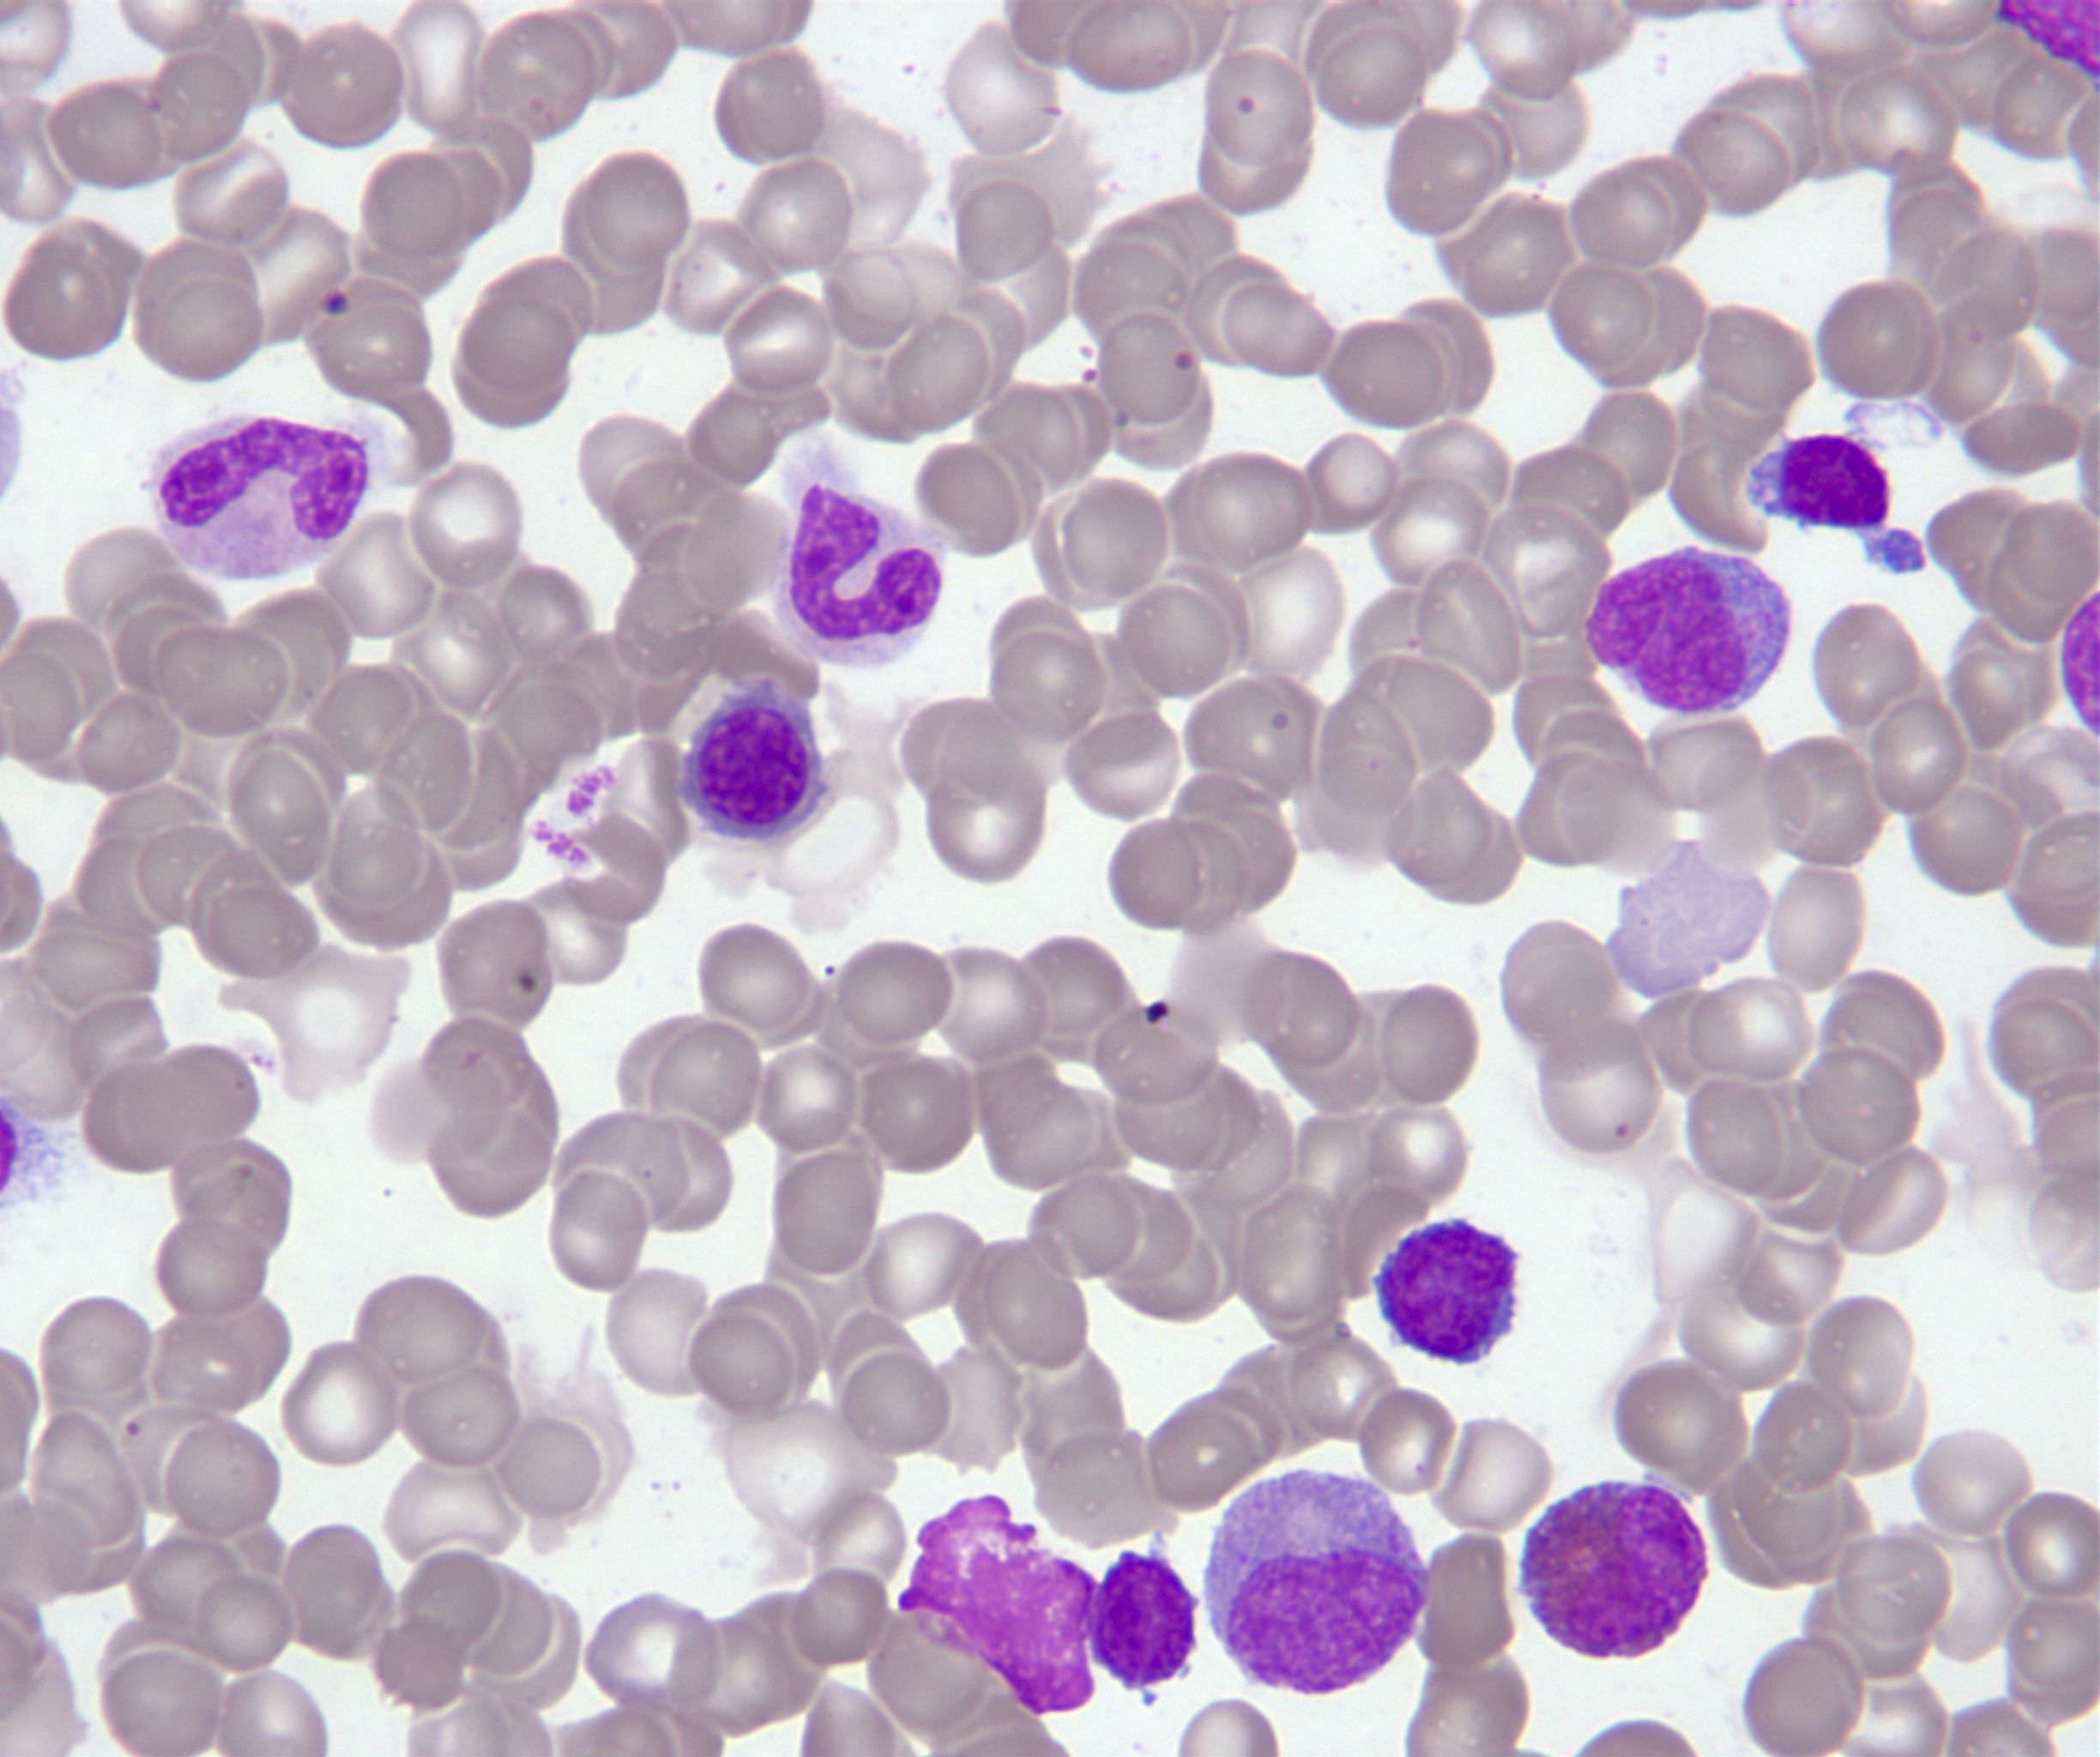23: (677, 675, 828, 848)
3: (1197, 1462, 1430, 1701)
32: (1366, 1213, 1523, 1375), (1074, 1546, 1203, 1698), (1744, 431, 1899, 536)
42: (1578, 543, 1797, 724)
5: (141, 408, 384, 586), (774, 480, 954, 672)
E2: (1512, 1476, 1706, 1663)
